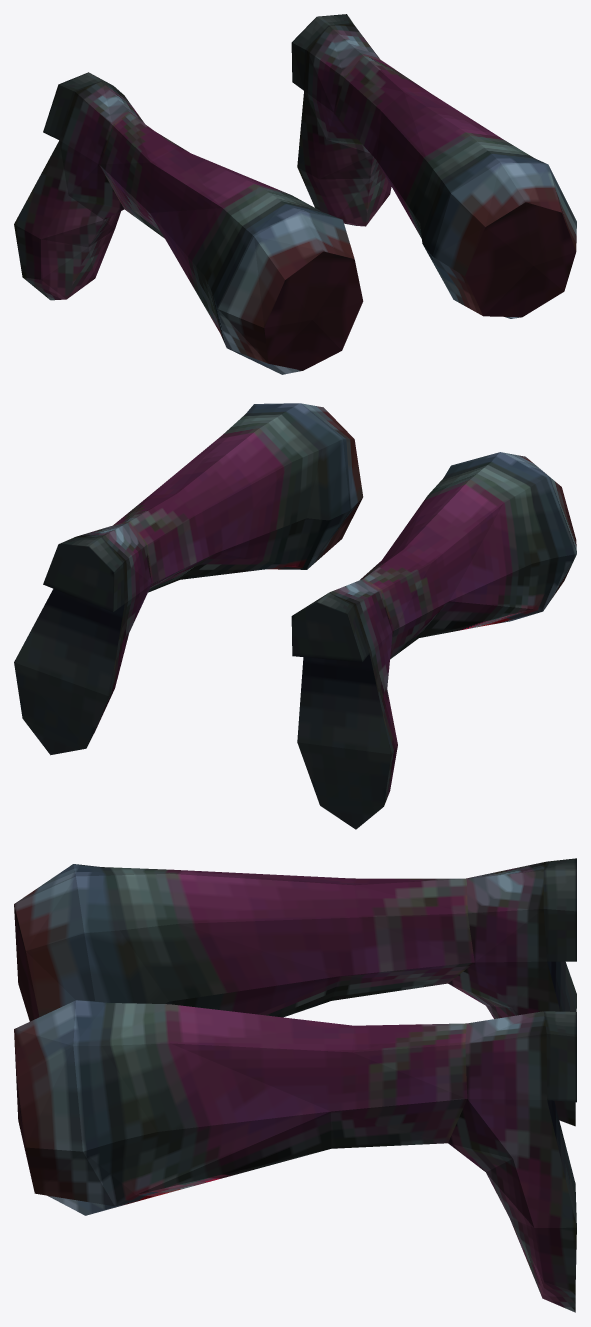
Rendered from archer_shoe_male_98540.obj.
3 renders of one model, top to bottom at view 1: azimuth 30°, elevation 25°; view 2: azimuth 150°, elevation 25°; view 3: azimuth 270°, elevation 25°, orthographic. The views are drawn at different scales.
Parts seen in each view (by area): view 1: archer_shoe_male_98540; view 2: archer_shoe_male_98540; view 3: archer_shoe_male_98540.
Boxes of the visible parts, bbox=[...] form: archer_shoe_male_98540: bbox=[14, 14, 576, 374]; archer_shoe_male_98540: bbox=[14, 403, 576, 829]; archer_shoe_male_98540: bbox=[14, 858, 576, 1312].
Size of the model in its own units: 26.62 by 14.87 by 27.13.
1 material, 1 textured.
